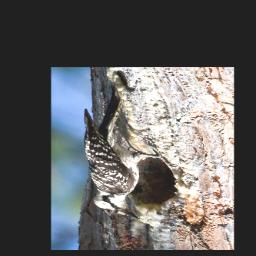Woodpecker: (77, 83, 161, 223)
